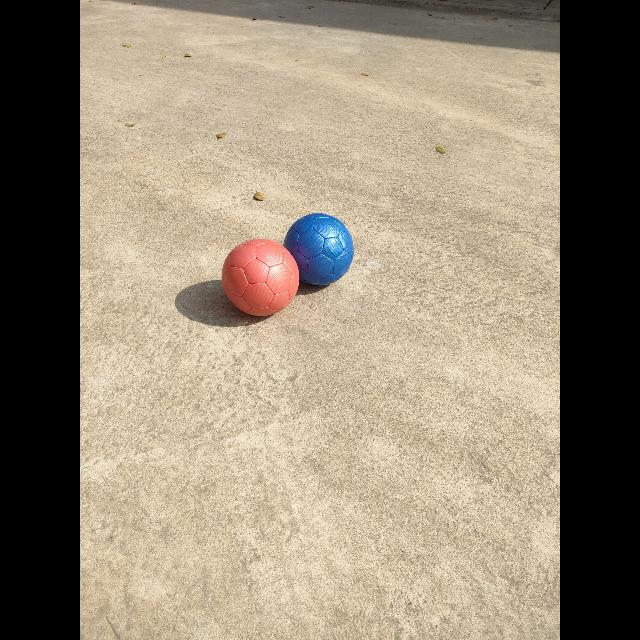B: (283, 213, 354, 286)
R: (222, 239, 300, 317)
